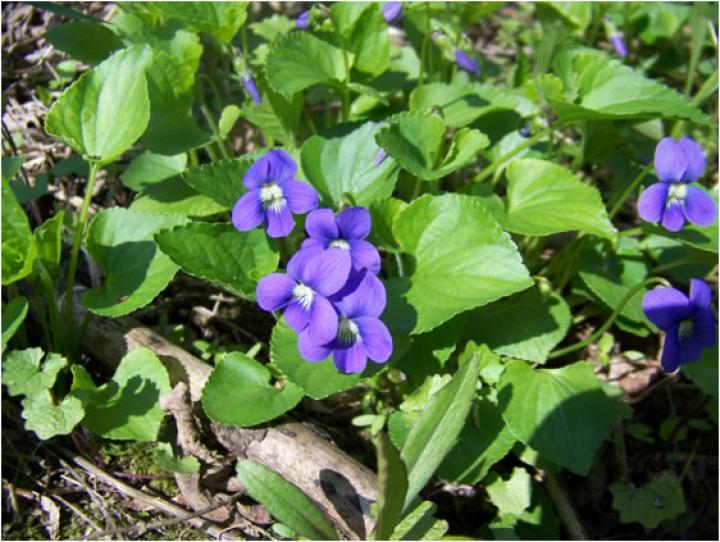violet: (624, 273, 720, 371), (633, 135, 720, 240), (255, 237, 343, 336), (233, 140, 321, 237), (319, 275, 398, 380)
